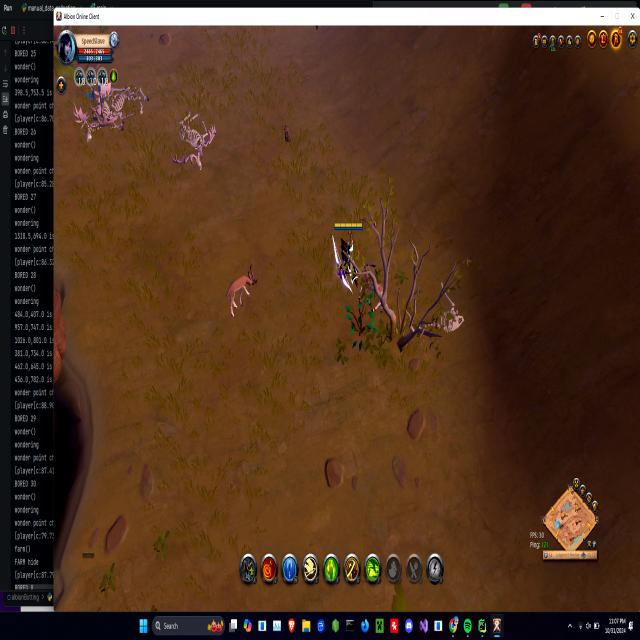ore: (224, 262, 258, 317)
red: (332, 217, 362, 284)
